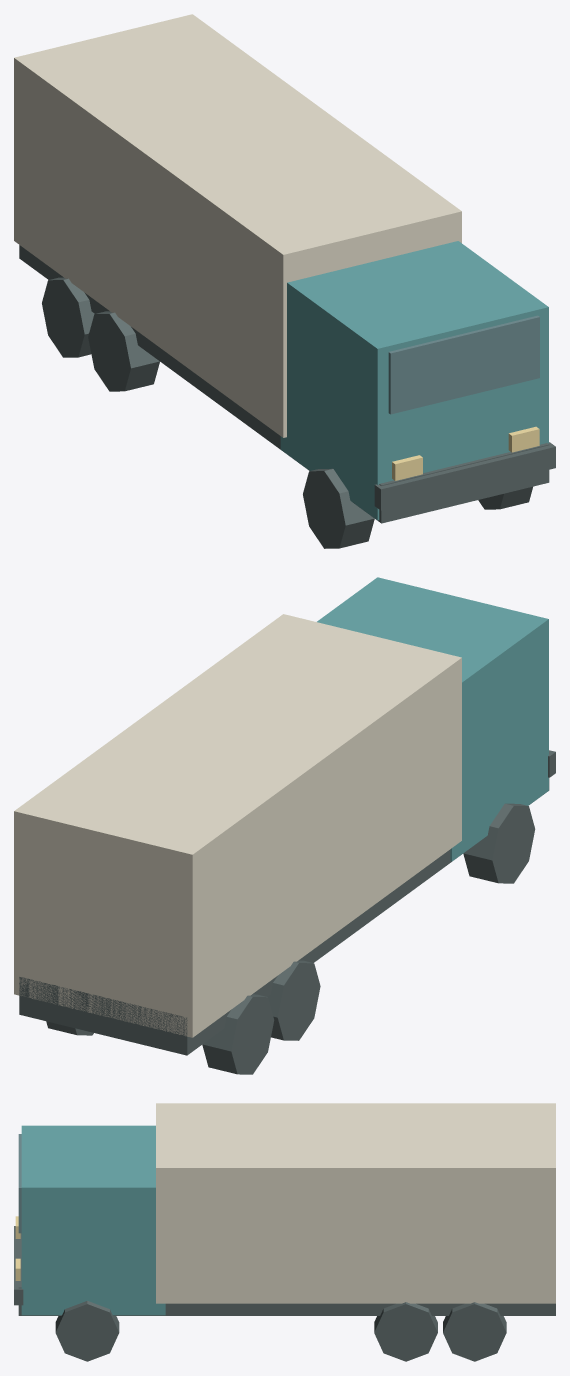
3 renders of one model, top to bottom at view 1: azimuth 30°, elevation 25°; view 2: azimuth 150°, elevation 25°; view 3: azimuth 270°, elevation 25°, orthographic. The views are drawn at different scales.
Bounding box in the file's own units: 2.6 × 3.39 × 8.68.
